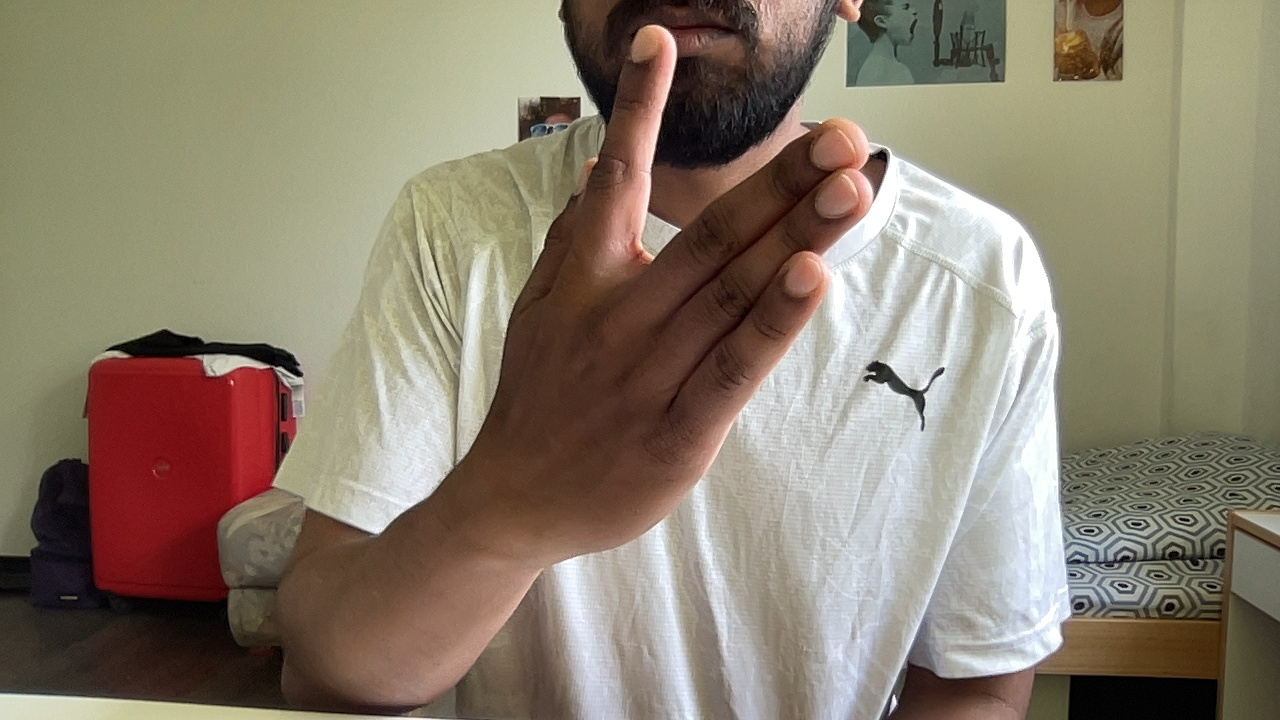LiveLong: (492, 23, 874, 565)
